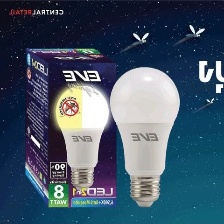carton: (19, 41, 121, 211)
light_bulb: (103, 62, 181, 210)
